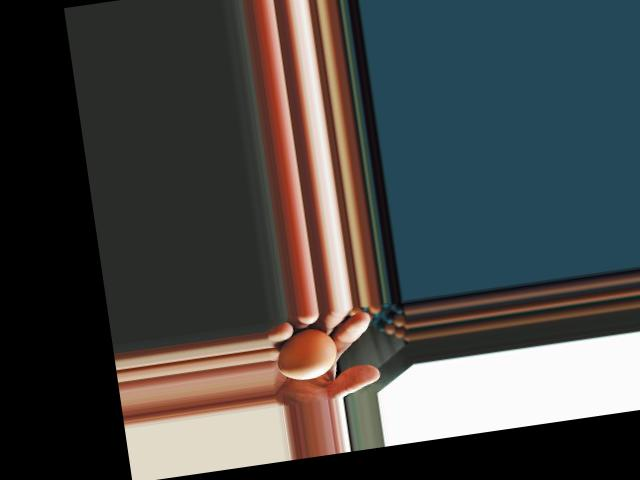egg: (271, 324, 339, 382)
